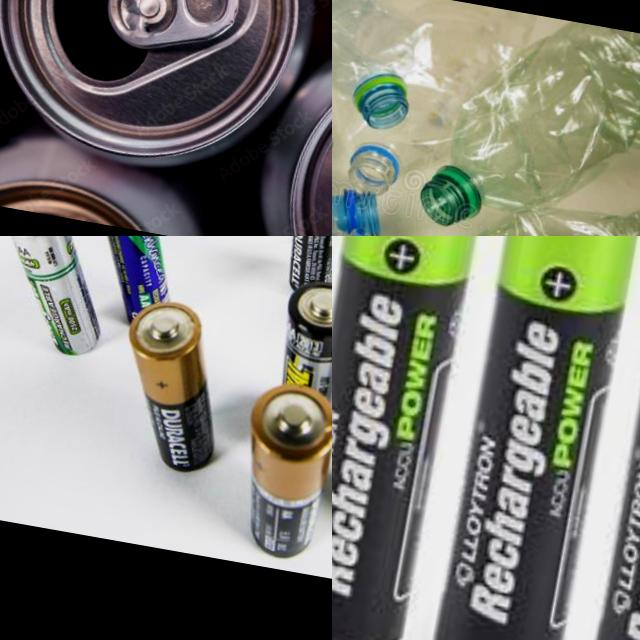aba de lata: (102, 0, 250, 62)
bateria: (424, 236, 640, 640), (332, 236, 499, 640), (106, 292, 238, 476), (584, 236, 640, 640), (227, 377, 332, 561), (0, 236, 121, 358), (78, 236, 189, 333), (271, 275, 332, 420), (274, 236, 332, 298)
garrafa plástica: (415, 0, 640, 236), (332, 0, 537, 220), (373, 145, 640, 236), (332, 12, 411, 236), (332, 0, 427, 131)
lata: (0, 0, 328, 186)
